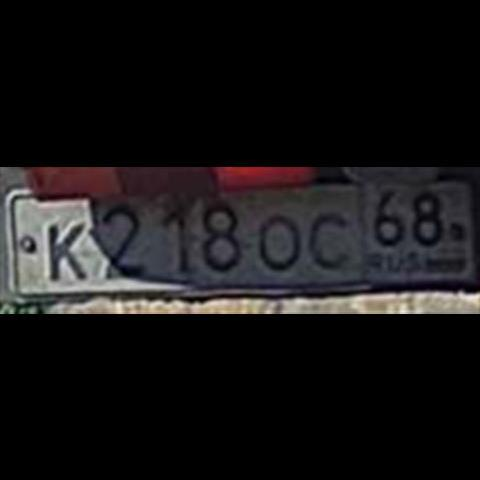license-plateSW: (4, 177, 473, 300)
